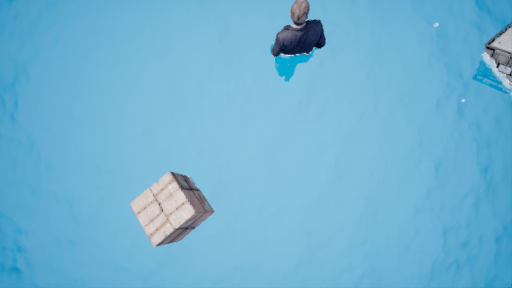person: (274, 3, 328, 84)
